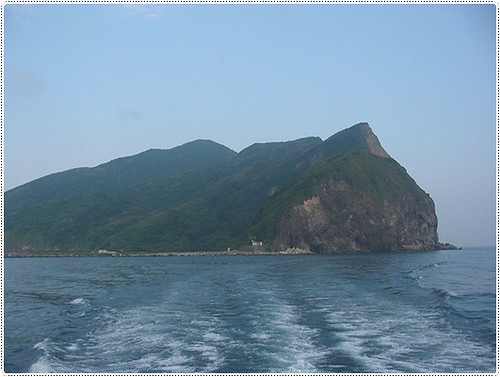turtleIsland: (6, 122, 439, 249)
